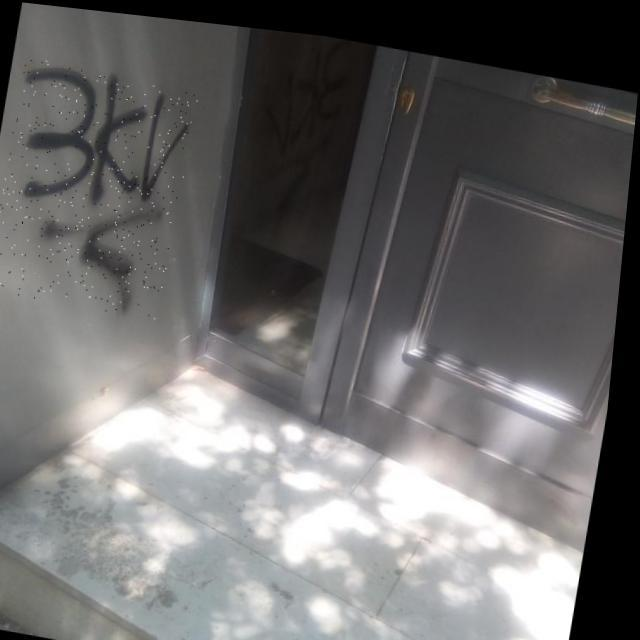-: (0, 54, 201, 318)
